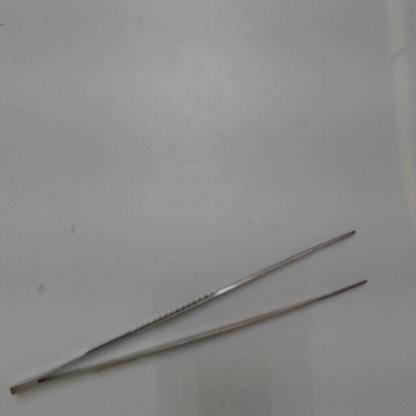DeBakey Dissector: (5, 224, 383, 404), (348, 222, 350, 230)
